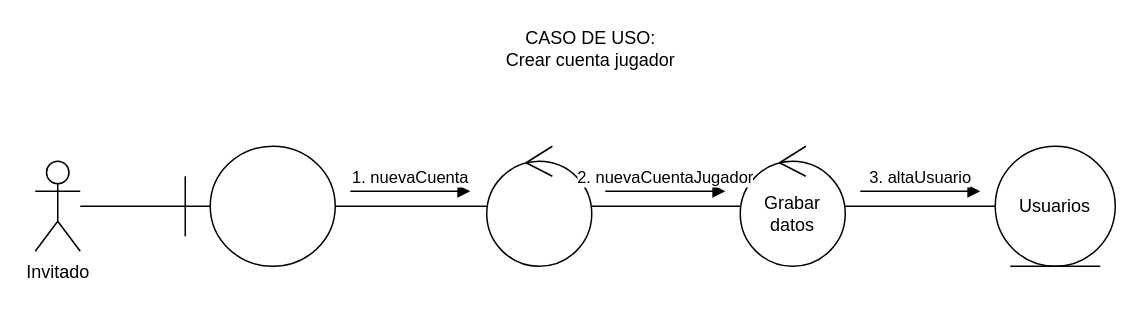
Some shapes in this 1142 by 330 pixel diagram are drawn without their labels. Each missing label, with the centre of its shape:
"Creación usuarios" goes at pixel 259 205.
"Gestión usuarios" goes at pixel 538 205.
